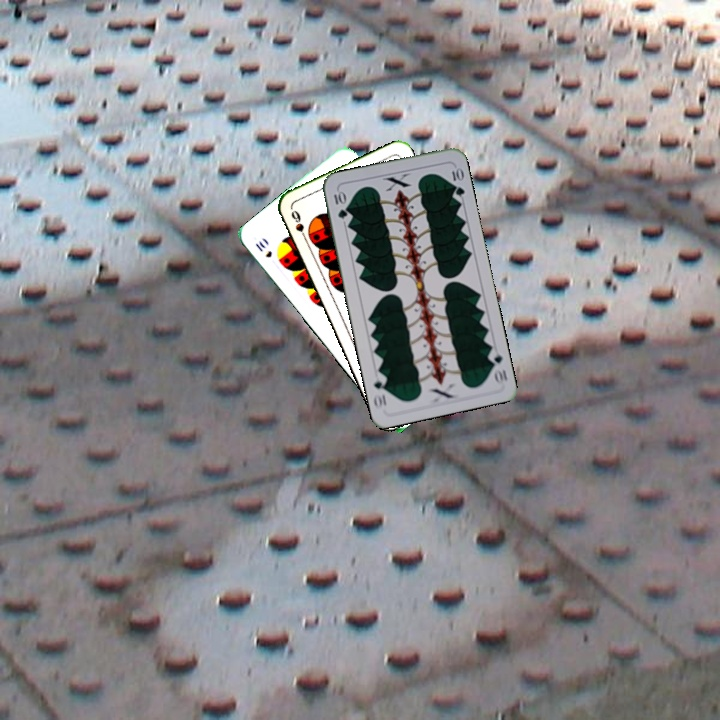G10: (484, 345, 510, 385), (330, 187, 350, 221)
S10: (251, 237, 275, 260)
S9: (287, 206, 310, 244)
